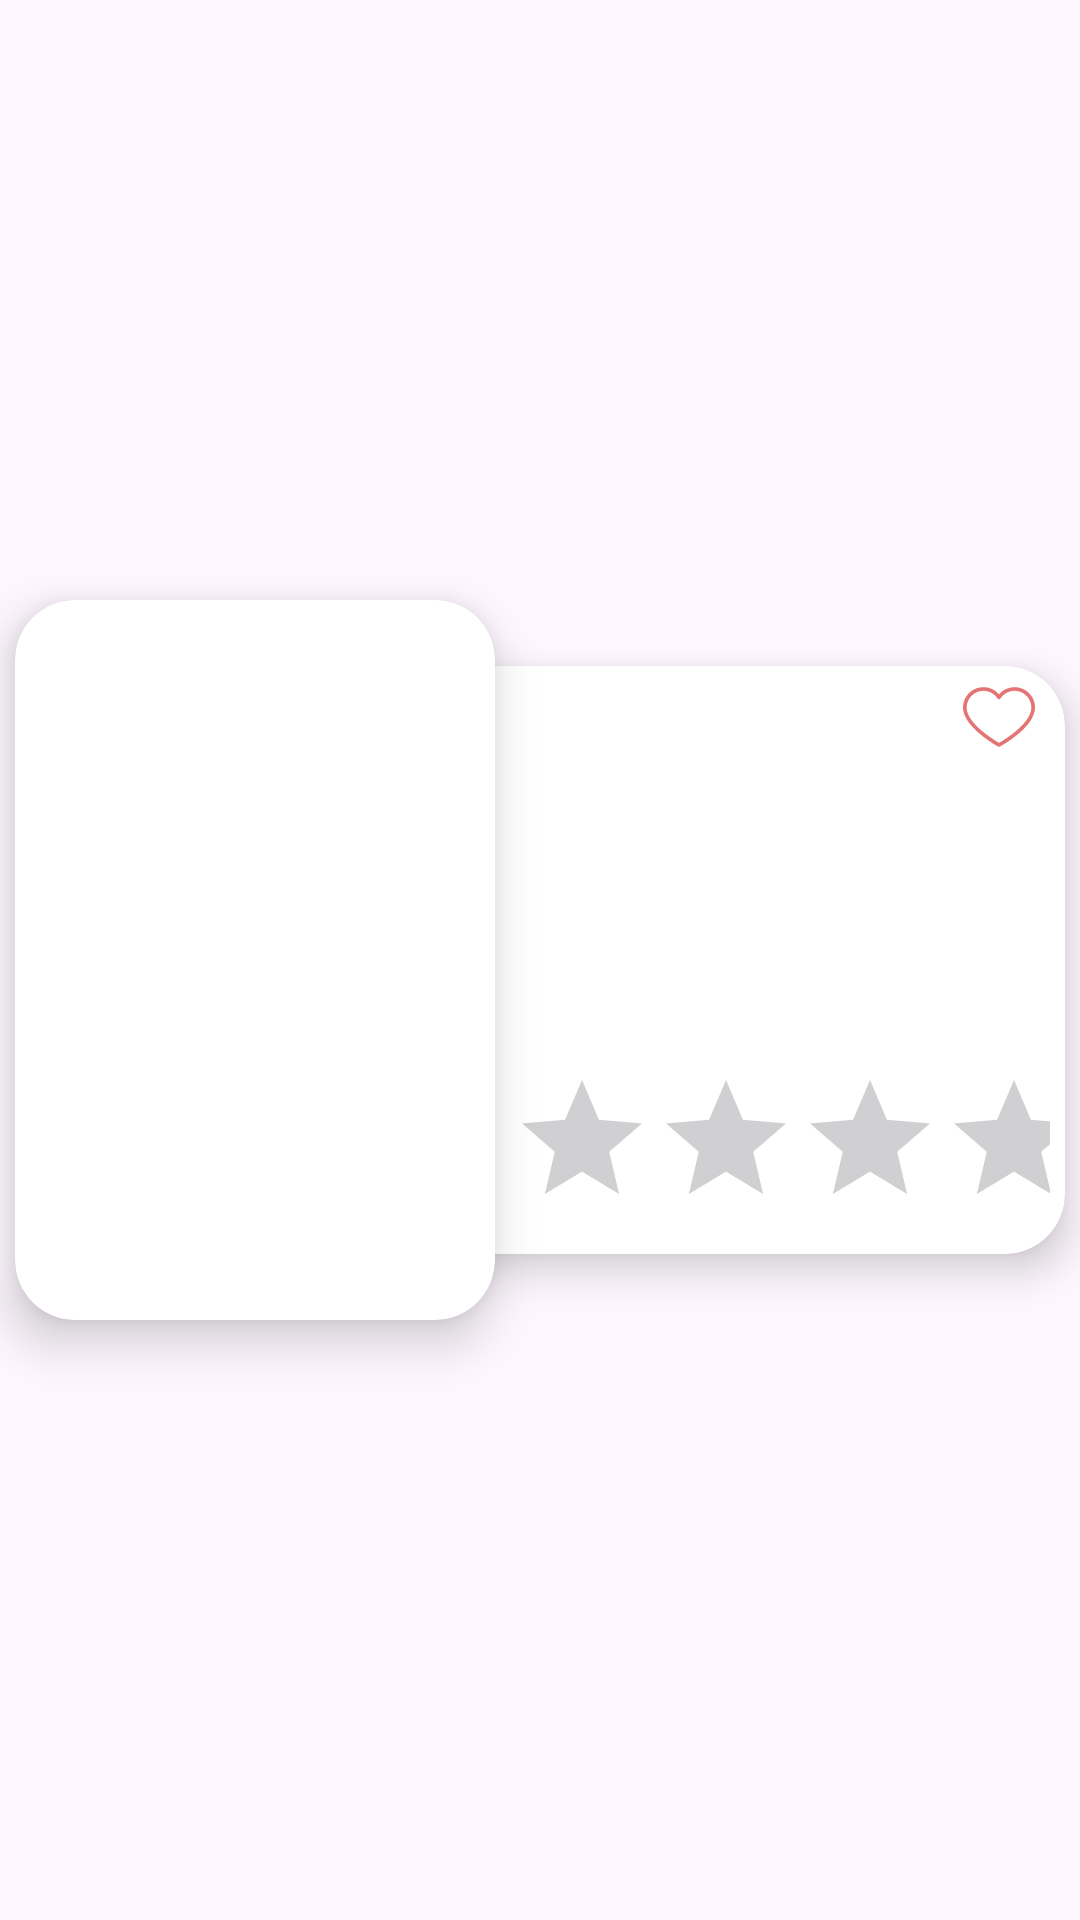

Icons on this 1080px x 1920px Android screen, each with the point to tap as point (x, y):
empty heart: point (999, 717)
